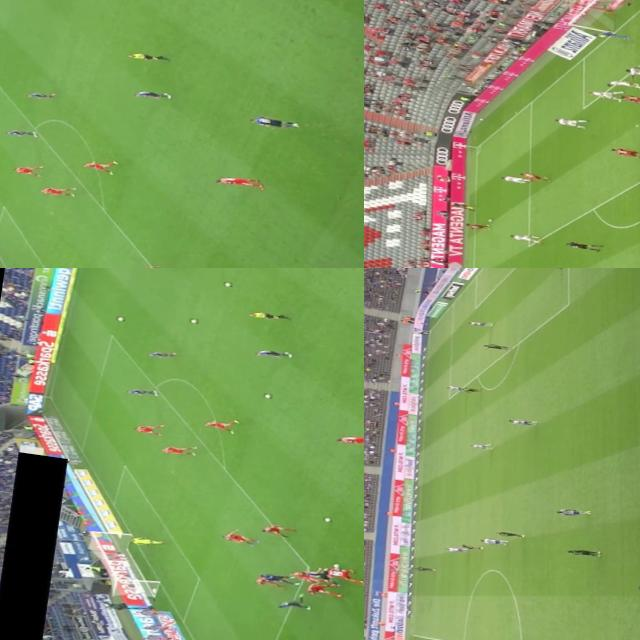ball: (222, 280, 238, 288), (262, 392, 276, 400), (321, 516, 335, 522), (485, 216, 495, 224), (332, 563, 342, 570), (188, 316, 199, 322), (116, 315, 125, 322)
player: (249, 114, 299, 131), (130, 85, 172, 104), (324, 566, 364, 585), (214, 172, 261, 188), (306, 580, 346, 598), (79, 156, 116, 174), (586, 86, 626, 102), (158, 443, 199, 458), (502, 231, 544, 245), (280, 593, 312, 611), (223, 531, 258, 547), (552, 114, 587, 129), (5, 126, 40, 140), (24, 89, 61, 102), (38, 186, 78, 198), (204, 418, 236, 433), (254, 348, 294, 360), (554, 506, 594, 518), (303, 569, 337, 583), (8, 162, 44, 175), (604, 77, 640, 90), (518, 168, 551, 182), (590, 28, 628, 40), (126, 385, 161, 398), (497, 172, 529, 186), (134, 422, 166, 436), (336, 431, 364, 447), (492, 527, 526, 540), (262, 573, 302, 584), (130, 536, 165, 548), (566, 546, 600, 558), (262, 524, 290, 538), (610, 145, 640, 158), (287, 570, 318, 582), (464, 220, 494, 232), (484, 341, 514, 353), (507, 415, 537, 427), (253, 578, 286, 588), (466, 440, 496, 451), (464, 319, 495, 329), (478, 536, 509, 546), (148, 350, 178, 360), (413, 564, 440, 574), (456, 540, 482, 550), (137, 261, 174, 268), (625, 63, 640, 80), (621, 93, 640, 106), (445, 545, 471, 554), (445, 383, 470, 392), (458, 384, 480, 393), (451, 637, 480, 640)
